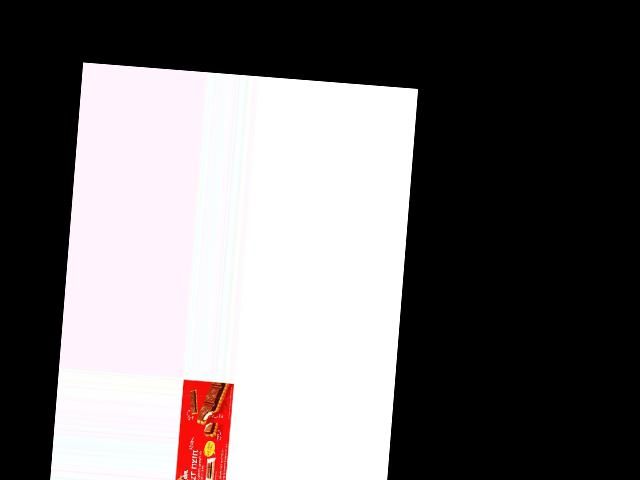chocolate: (174, 379, 234, 480)
